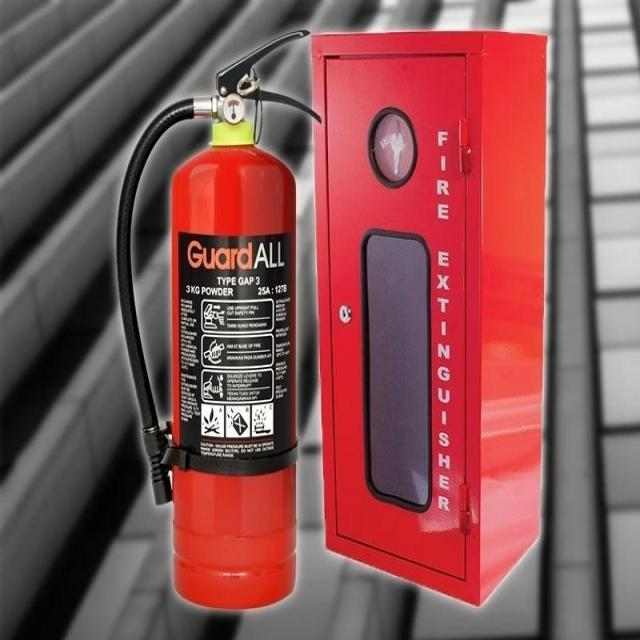fire_extinguisher: (111, 24, 326, 616)
